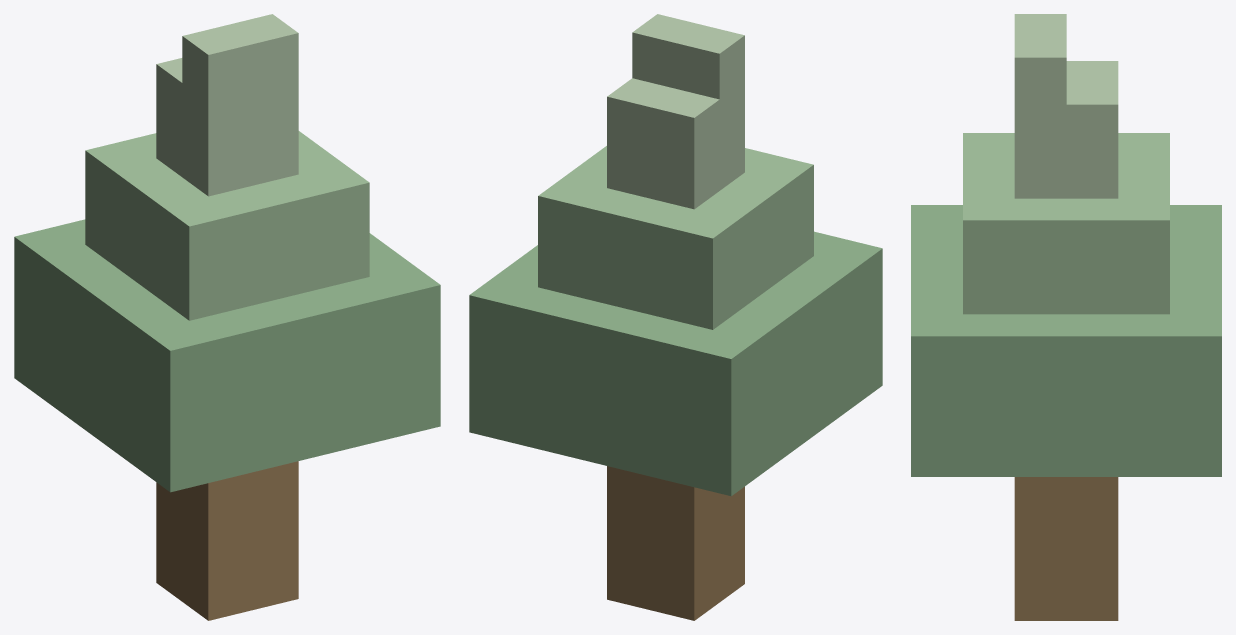
Rendered from tree_pine.glb.
3 renders of one model, left to right at view 1: azimuth 30°, elevation 25°; view 2: azimuth 150°, elevation 25°; view 3: azimuth 270°, elevation 25°, orthographic. The views are drawn at different scales.
Parts seen in each view (by area): view 1: tree_pine; view 2: tree_pine; view 3: tree_pine.
Part boxes in pixels (bbox=[...]): tree_pine: bbox=[14, 14, 440, 620]; tree_pine: bbox=[469, 14, 882, 620]; tree_pine: bbox=[911, 14, 1221, 620].
Bounding box in the file's own units: 0.6 × 1.2 × 0.6.
